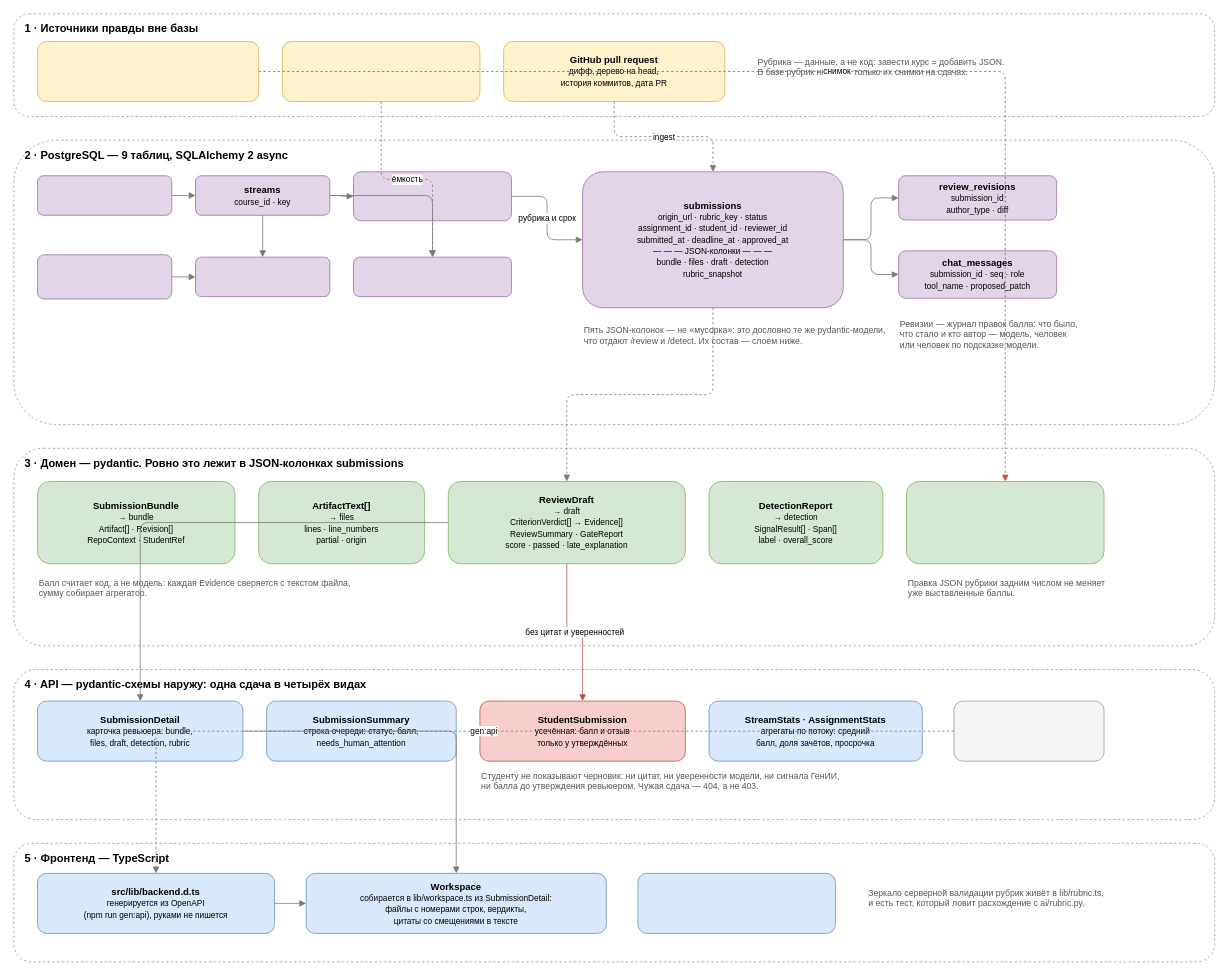
Some shapes in this 1228 by 976 pixel diagram are drawn without their labels. The centre of each missing label's shape, as x and y in pixels:
"assignments stream_id · rubric_key opens_at · deadline_at" belongs at (x=432, y=196).
"backend/reviewers/*.md карточка ревьюера: темы, ёмкость в минутах" belongs at (x=381, y=71).
"backend/rubrics/*.json Rubric: Scale · LatePolicy Criterion[] · FormatCheck[]" belongs at (x=148, y=71).
"courses key · title" belongs at (x=104, y=195).
"enrollments stream_id · student_id" belongs at (x=262, y=276).
"OpenAPI /openapi.json" belongs at (x=1028, y=730).
"Rubric → rubric_snapshot замороженная копия рубрики на момент разбора" belongs at (x=1005, y=522).
"stream_reviewers stream_id · reviewer_id" belongs at (x=432, y=276).
"users username · role password_hash" belongs at (x=104, y=276).
"Экраны /review · /queue · /my-work /streams · /admin" belongs at (x=736, y=903).
